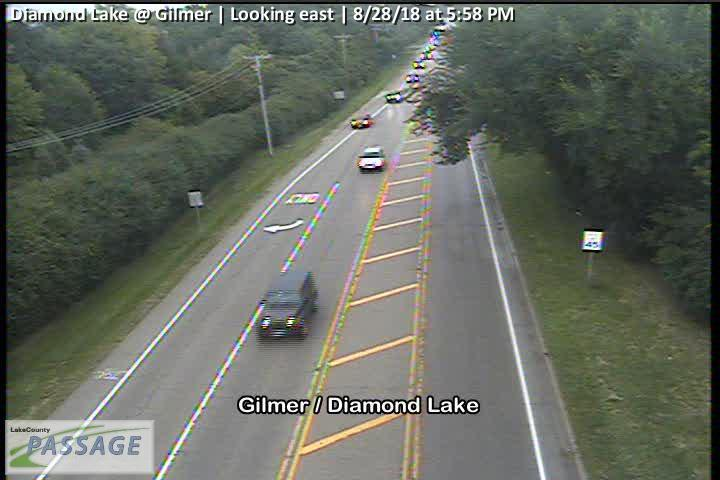SUV: (259, 271, 317, 339)
Sedan: (358, 146, 385, 171), (350, 113, 372, 129)
